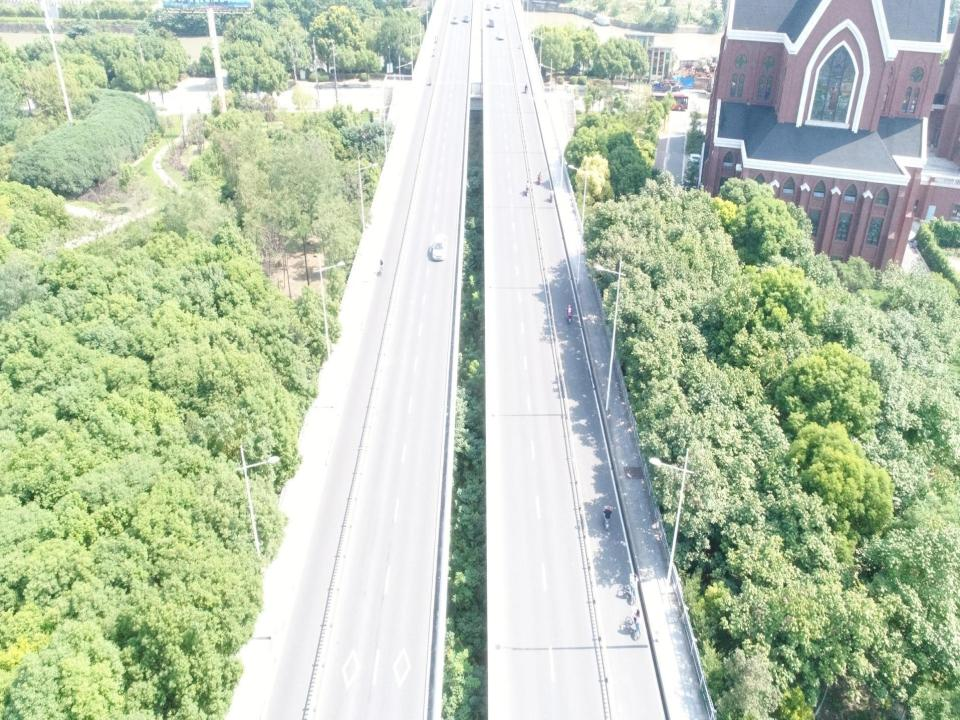bus: (646, 93, 689, 111)
car: (431, 233, 446, 263), (298, 98, 320, 110), (687, 152, 704, 164), (497, 31, 505, 40), (463, 13, 470, 23), (452, 15, 459, 24), (494, 1, 501, 8), (485, 3, 491, 9)
truck: (652, 80, 684, 92)
van: (488, 16, 495, 26)
